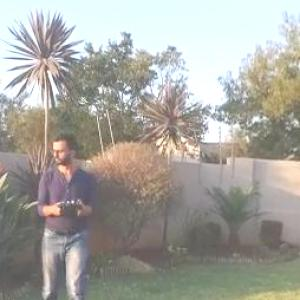follow: (30, 121, 98, 298)
